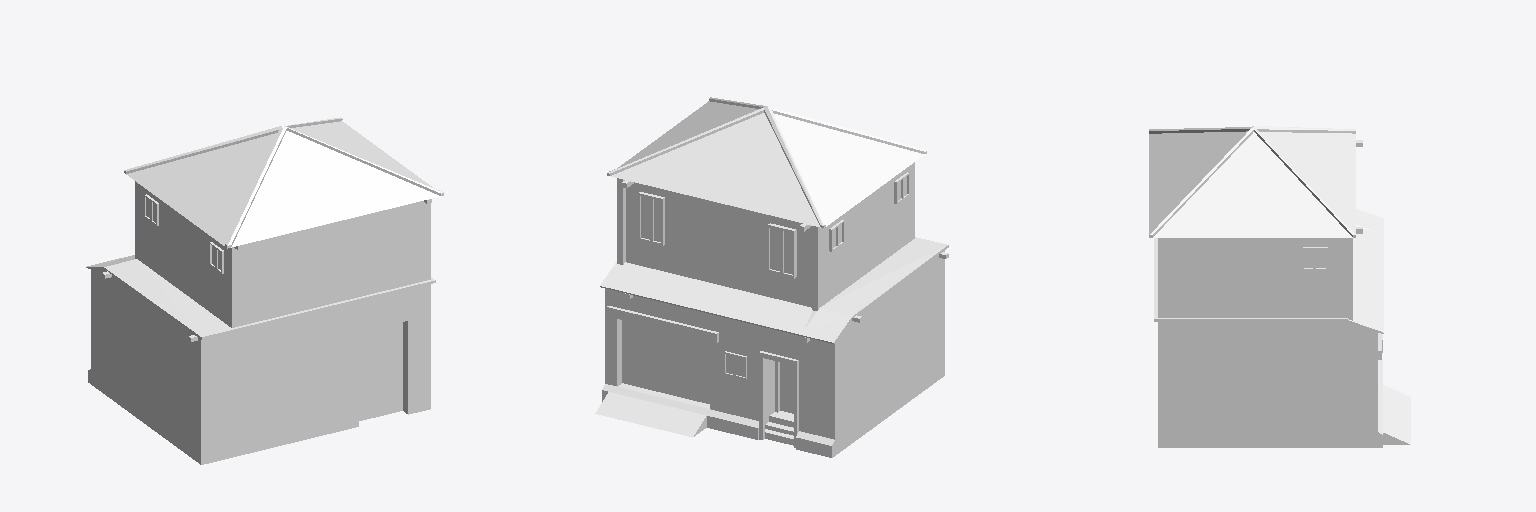
File: BuildingV.obj
3 renders of one model, left to right at view 1: azimuth 30°, elevation 25°; view 2: azimuth 150°, elevation 25°; view 3: azimuth 270°, elevation 25°, orthographic.
Visible parts, largest first — view 1: BuildingV; view 2: BuildingV; view 3: BuildingV.
Part boxes in pixels (x1,y1,x2,y2): BuildingV: (86, 117, 443, 464); BuildingV: (595, 97, 948, 457); BuildingV: (1149, 126, 1410, 447).
Bounding box in the file's own units: 300 × 318 × 276.